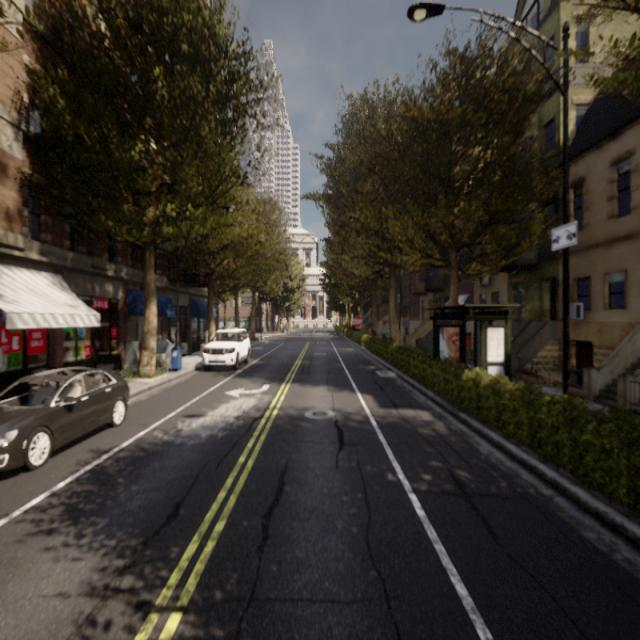stop sign: (349, 310, 364, 335)
